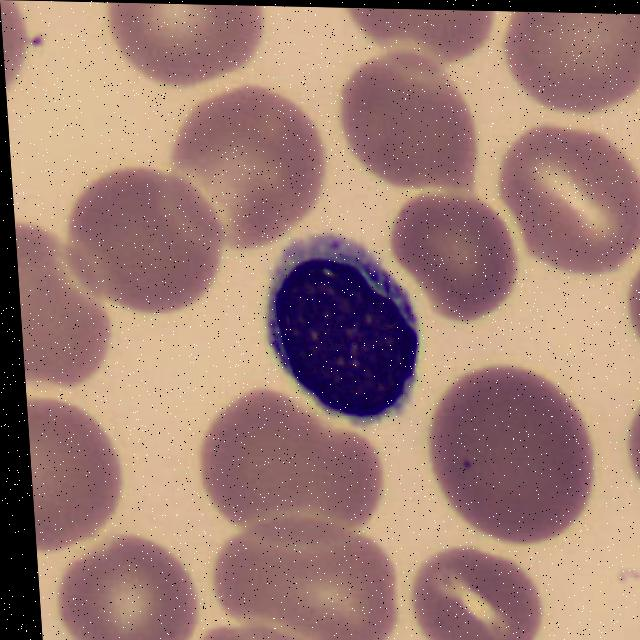lymphocyte: (250, 228, 430, 424)
rbc: (203, 399, 393, 539), (440, 381, 601, 537), (71, 159, 235, 312), (183, 86, 327, 238), (205, 533, 406, 640), (356, 48, 489, 187), (515, 123, 640, 268), (400, 191, 525, 319), (28, 397, 127, 556), (16, 217, 105, 385), (53, 538, 196, 640), (106, 2, 272, 78), (506, 19, 640, 108), (415, 547, 539, 640), (349, 8, 484, 63), (176, 611, 301, 640), (2, 5, 39, 86), (621, 383, 640, 530), (622, 263, 640, 368)
